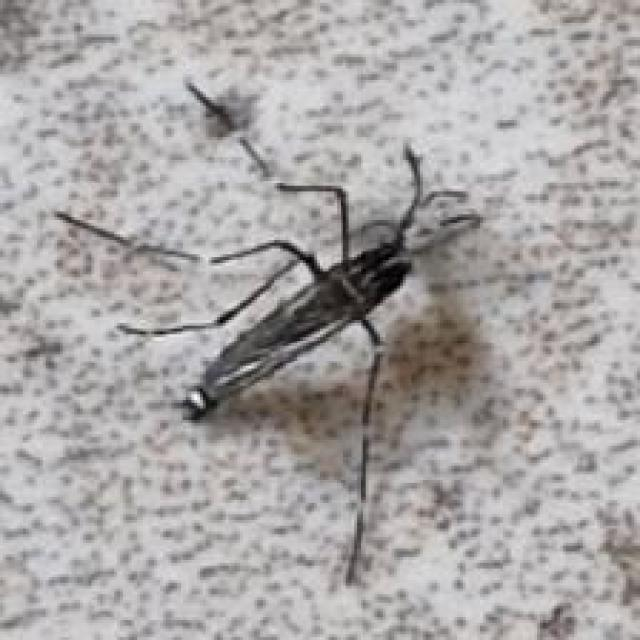Aedes albopictus: (53, 80, 484, 586)
